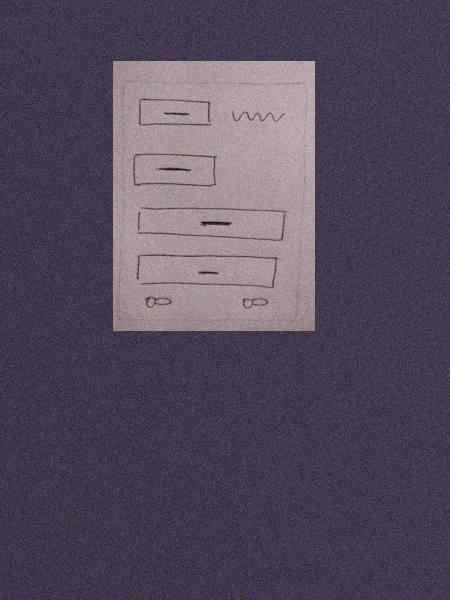button: (135, 203, 290, 245), (130, 250, 285, 292), (130, 149, 219, 187), (135, 93, 215, 132)
switch: (142, 294, 172, 312), (240, 294, 270, 312)
text: (227, 105, 289, 129)
